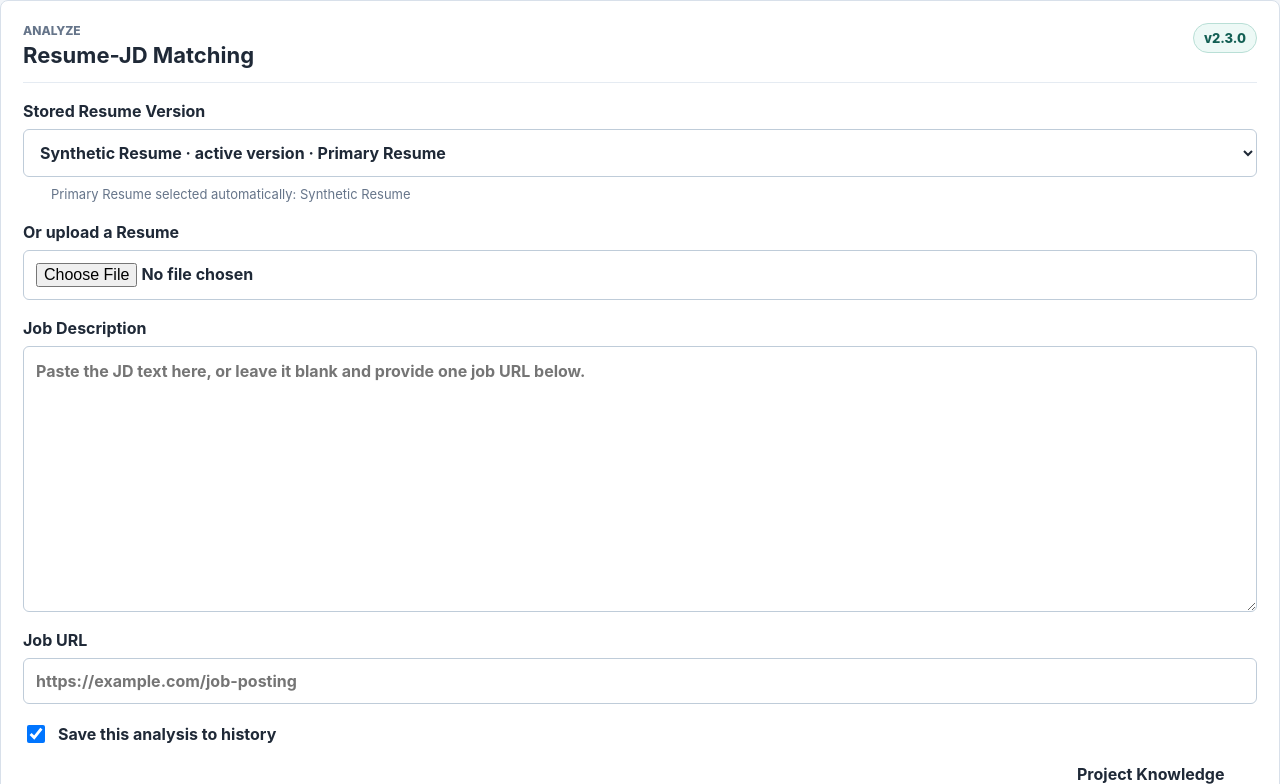
Version 2.0.1 simplified workspace › shows usable results for repaired analysis
Replace the text in the text box labelled "Job Description" with "Synthetic FastAPI role": (640, 479) [23,346,1257,612]
(page scrolled)
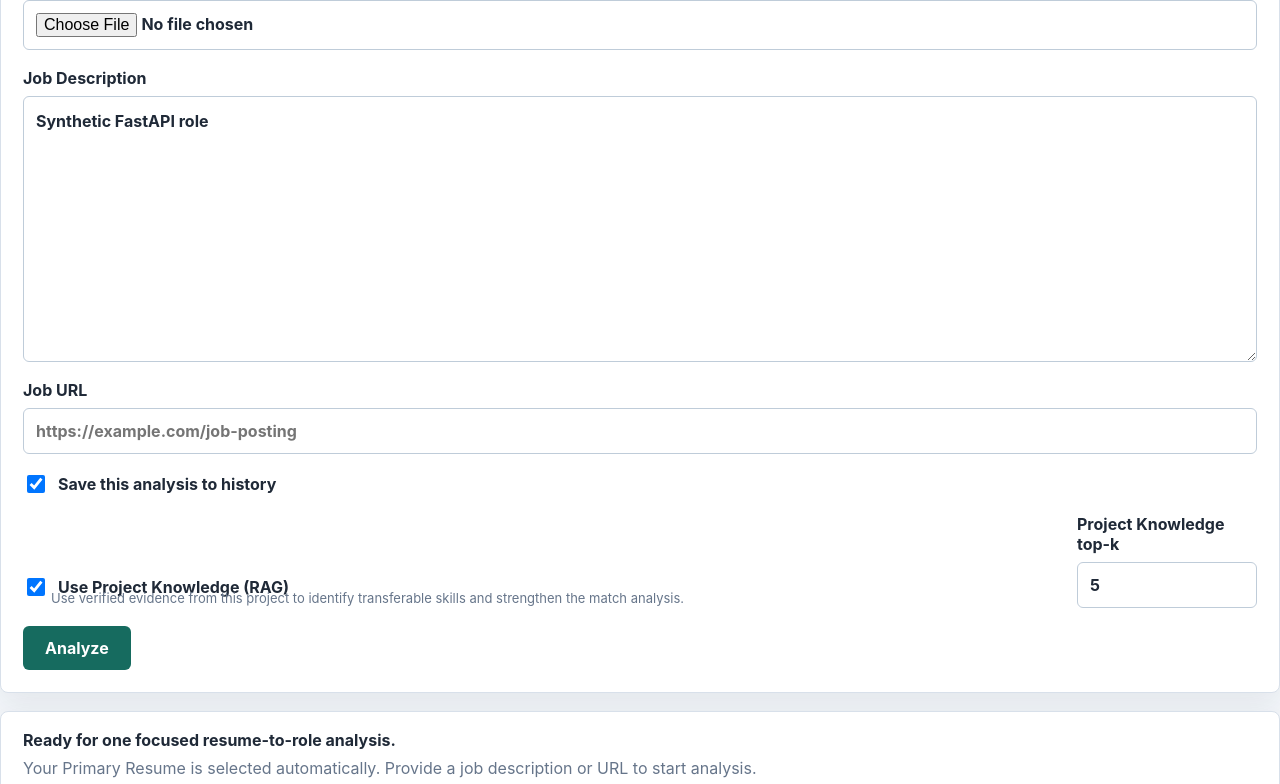
Click the button "Analyze": (77, 648) [23,626,131,670]
(page scrolled)
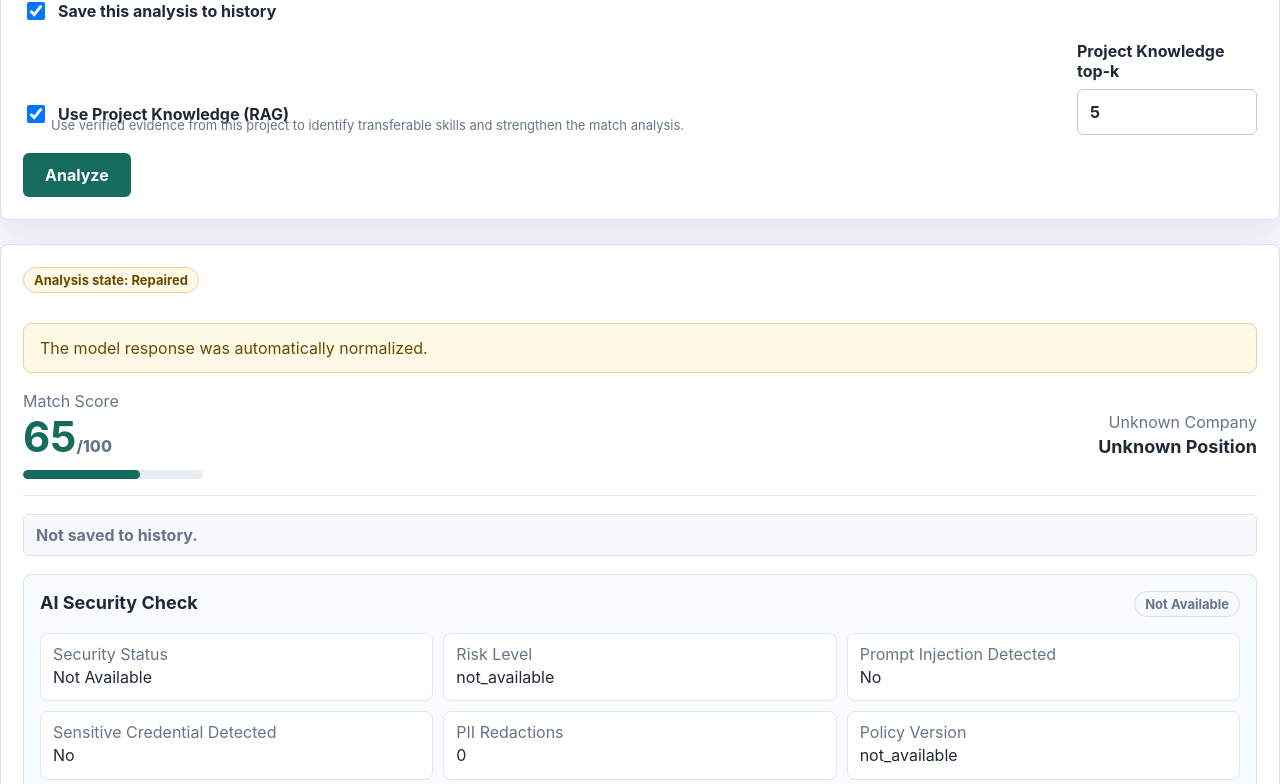
Check: the button "Analyze" is enabled, box [23,153,131,197]
Check: the text "The model response was automatically normalized." is shown, box [23,323,1257,373]
Check: the text "Match Score" is shown, box [23,391,119,411]
